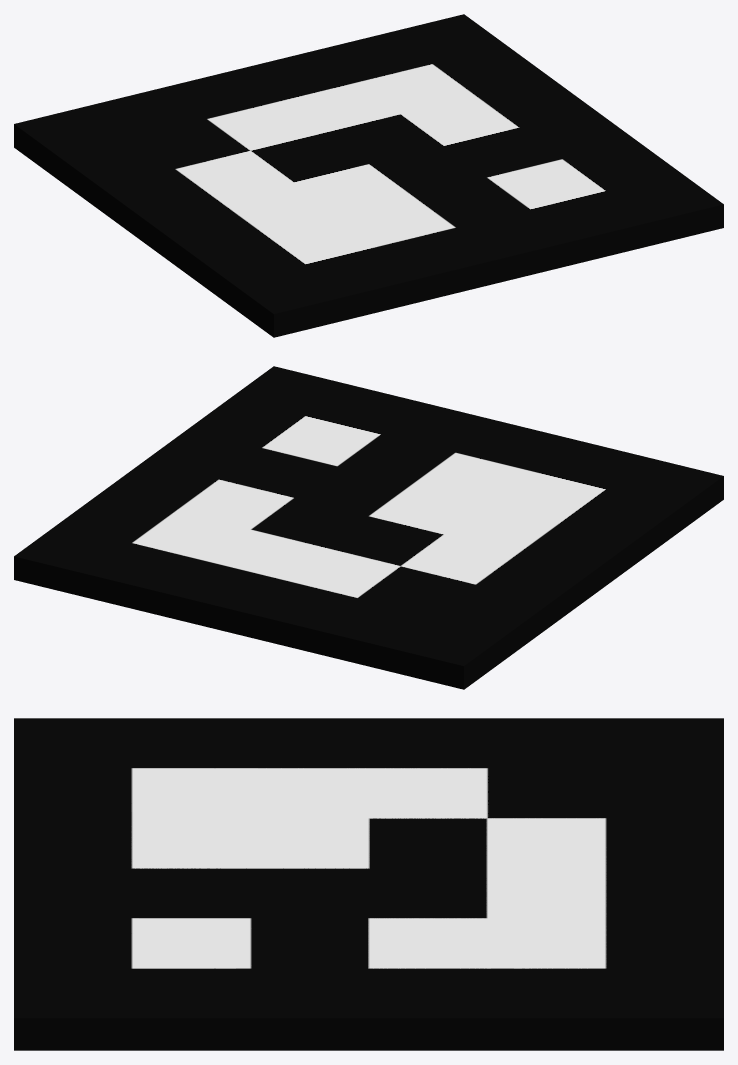
Rendered from marker_05.dae.
3 renders of one model, top to bottom at view 1: azimuth 30°, elevation 25°; view 2: azimuth 150°, elevation 25°; view 3: azimuth 270°, elevation 25°, orthographic. The views are drawn at different scales.
Parts seen in each view (by area): view 1: group_0, group_0.001; view 2: group_0, group_0.001; view 3: group_0, group_0.001.
Boxes of the visible parts, x1,y1,x2,y2 form: group_0: (14, 14, 723, 313); group_0.001: (14, 124, 723, 337); group_0: (14, 366, 723, 665); group_0.001: (14, 476, 723, 689); group_0: (14, 718, 723, 1018); group_0.001: (14, 1018, 723, 1050).
Bounding box in the file's own units: 0.1 × 0.1 × 0.005.
Materials: 2 (1 with a texture image).
